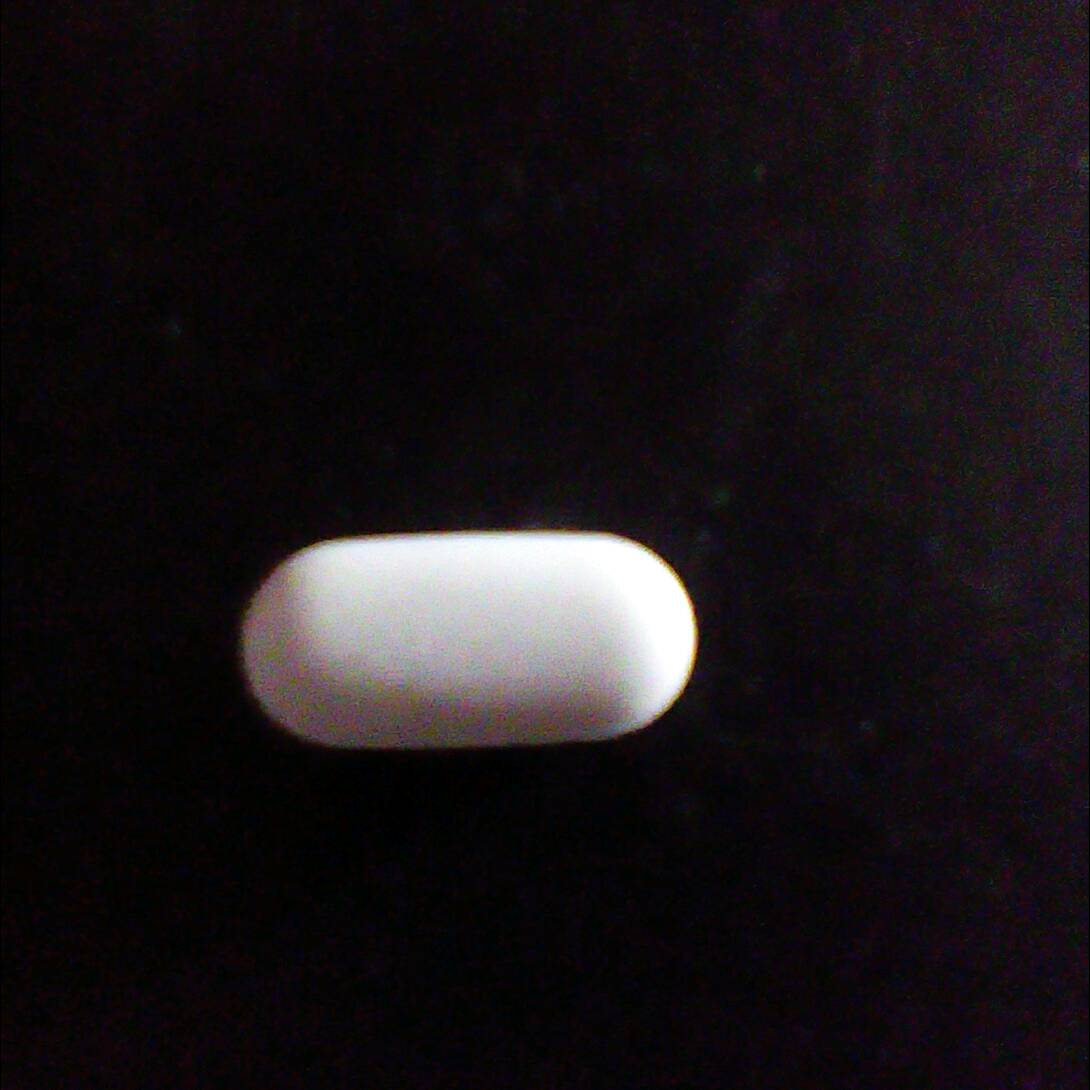Acetaminophen 325 MG Oral Tablet: (229, 486, 728, 788)
